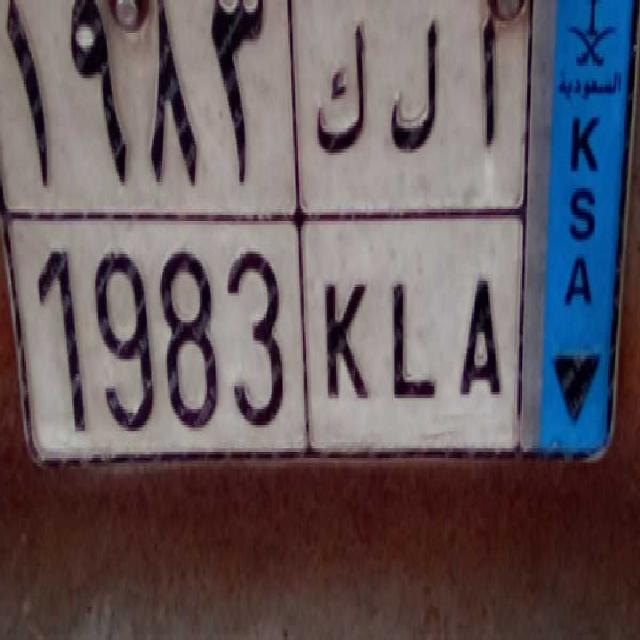license_plate: (5, 214, 521, 462)
